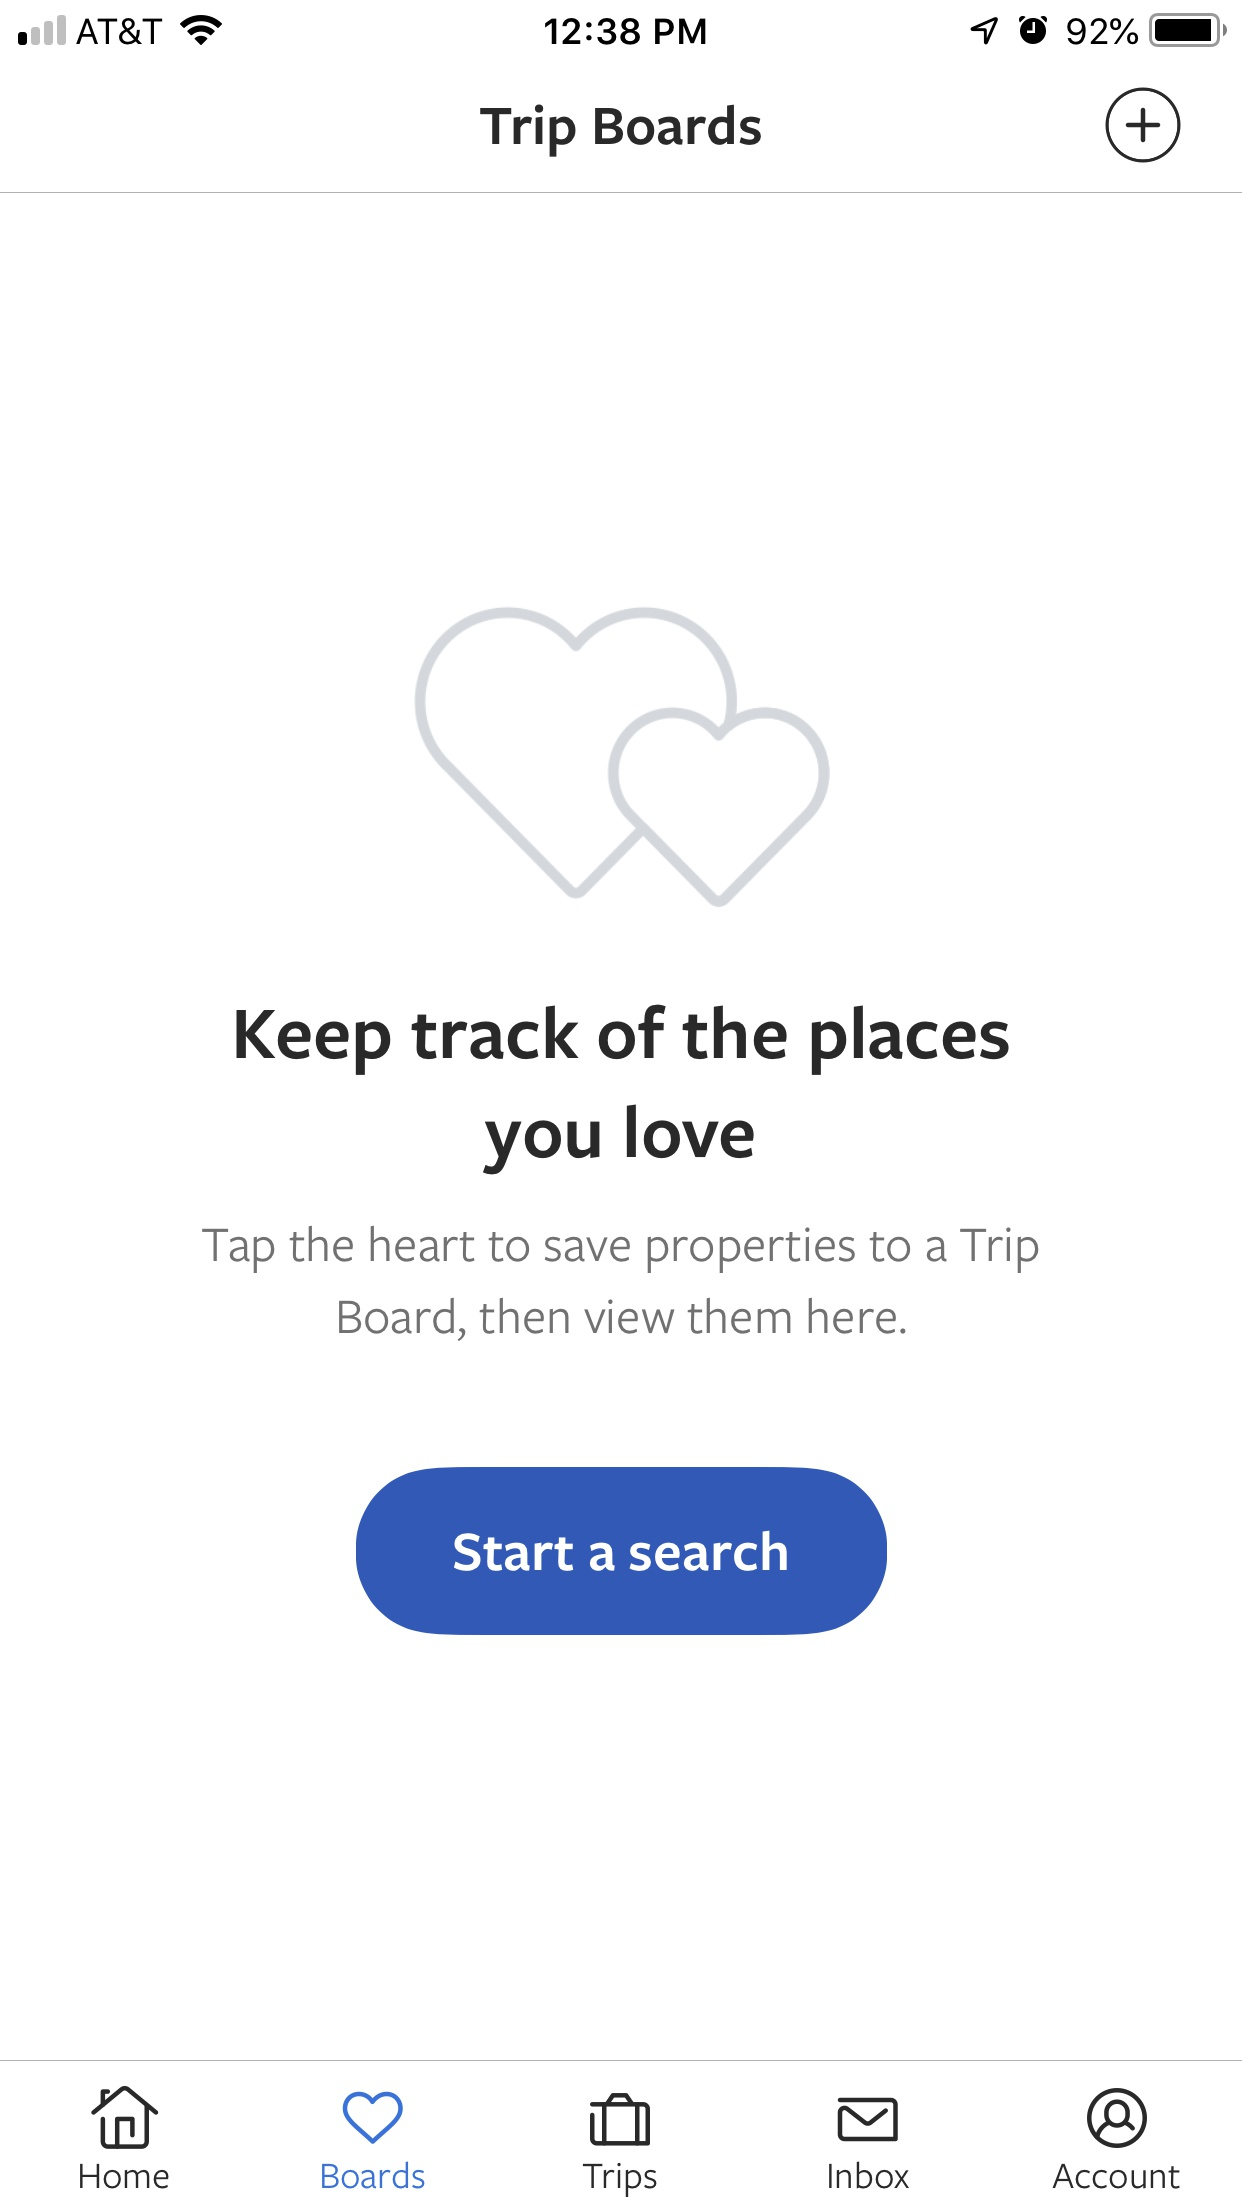Icon: (1104, 86, 1181, 164), (91, 2085, 161, 2150), (1086, 2087, 1148, 2149), (588, 2093, 651, 2147), (343, 2091, 403, 2144), (837, 2096, 899, 2141)
Image: (414, 607, 831, 908)
Text: (237, 1004, 1010, 1175), (202, 1225, 1039, 1342), (481, 105, 761, 158), (1052, 2163, 1181, 2188), (321, 2161, 426, 2190), (582, 2163, 658, 2197), (80, 2163, 170, 2190), (828, 2161, 910, 2190)
TextButton: (356, 1466, 889, 1636)
UpperTaskBar: (2, 2, 1242, 49)
